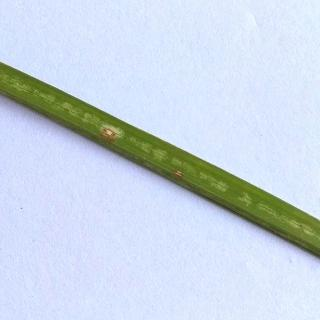Blast: (88, 112, 133, 159), (157, 155, 199, 195)
